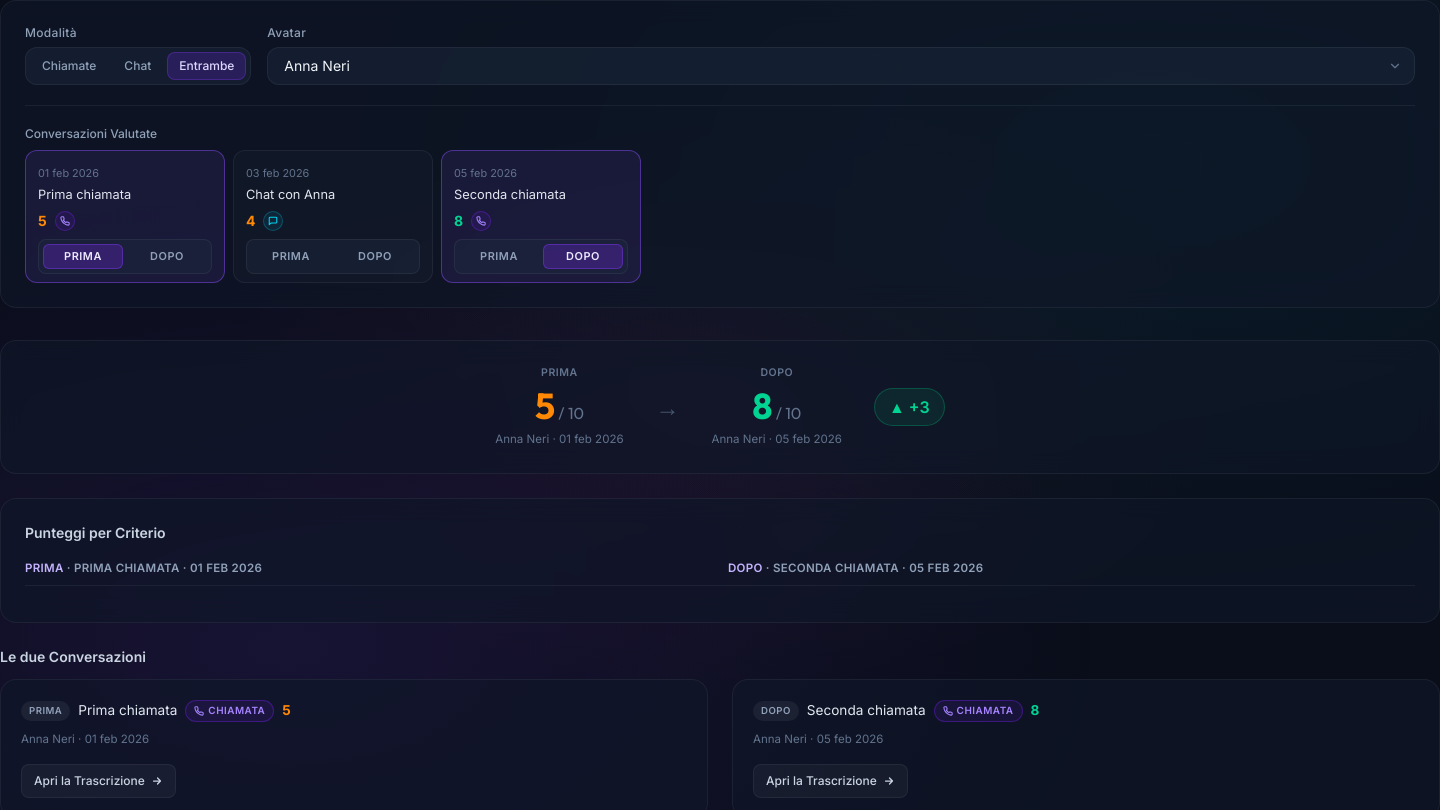
ComparisonConversations › dice che è lo scenario a lasciare una prova sola, invece del vuoto
This screenshot has width=1440, height=810.
Click the radio button labelled "Chat" at (138, 66), box left=112, top=52, right=163, bottom=80
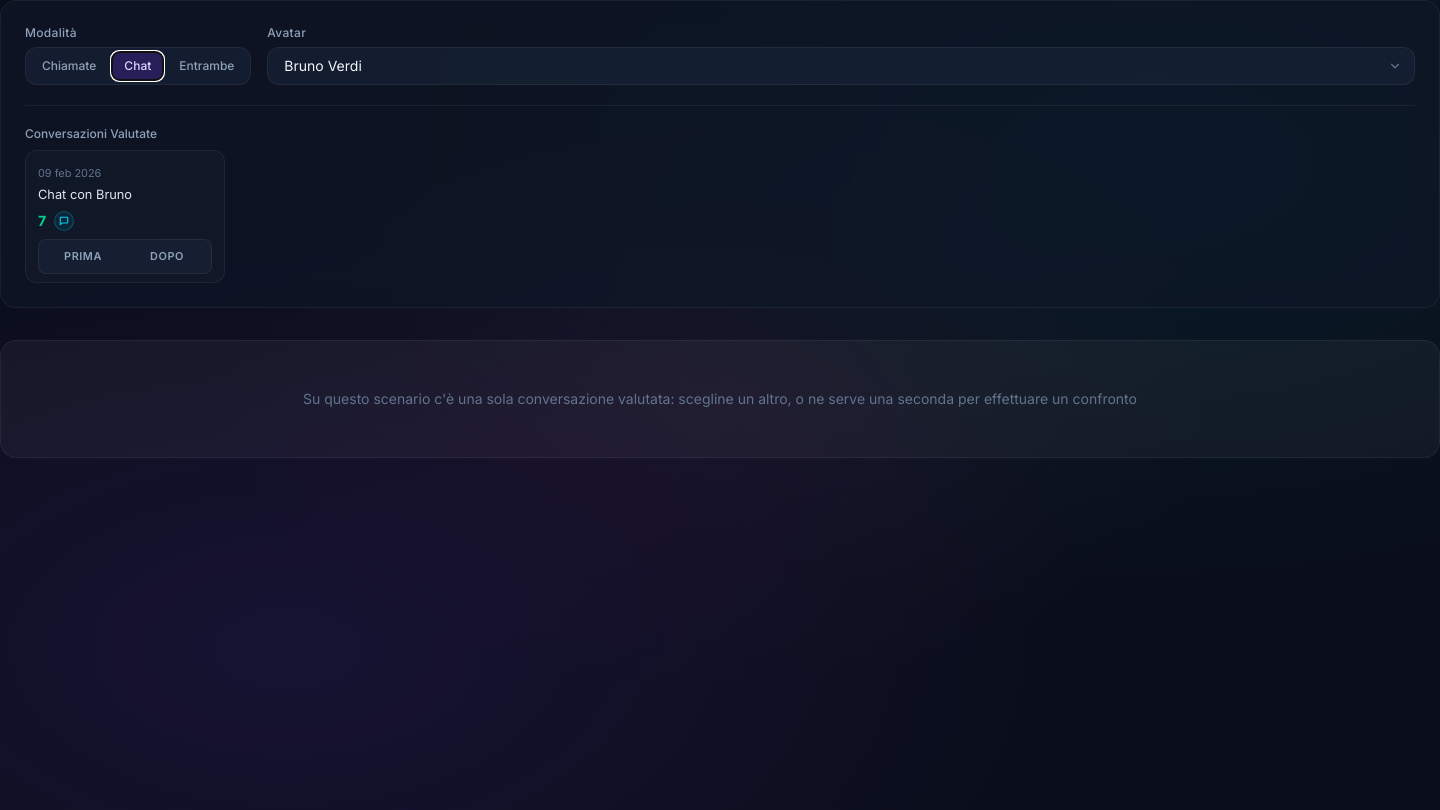
Expected: the radio button labelled "Chiamate" is shown, left=30, top=52, right=108, bottom=80
Result: the text "Su questo scenario c'è una sola conversazione valutata" is shown at left=303, top=390, right=1137, bottom=408
